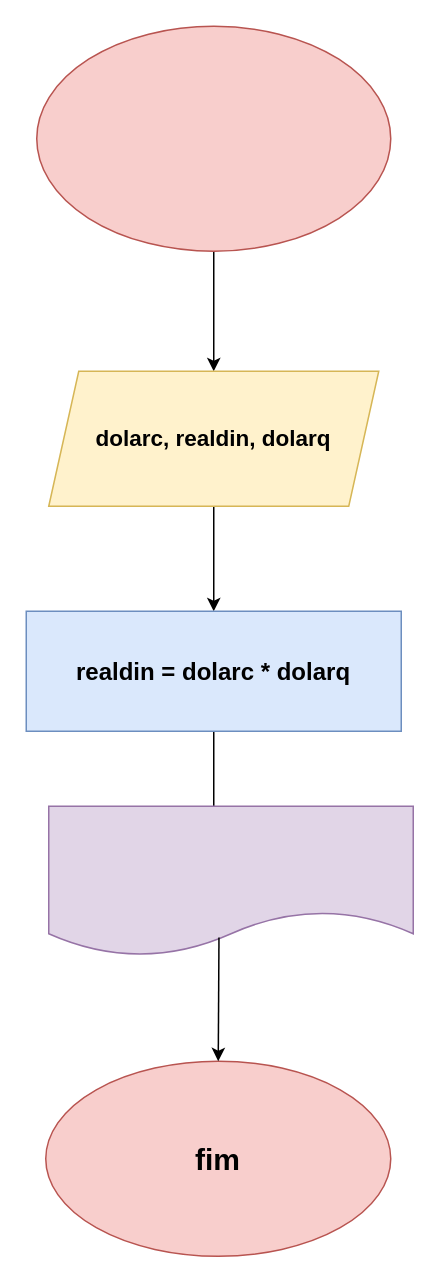
Image size: 440x1283. Some labels were removed from this diagram. The centre of each missing label's shape, as x and y in pixels:
"inicio" belongs at pixel 213 138.
"mensalidade" belongs at pixel 230 880.
